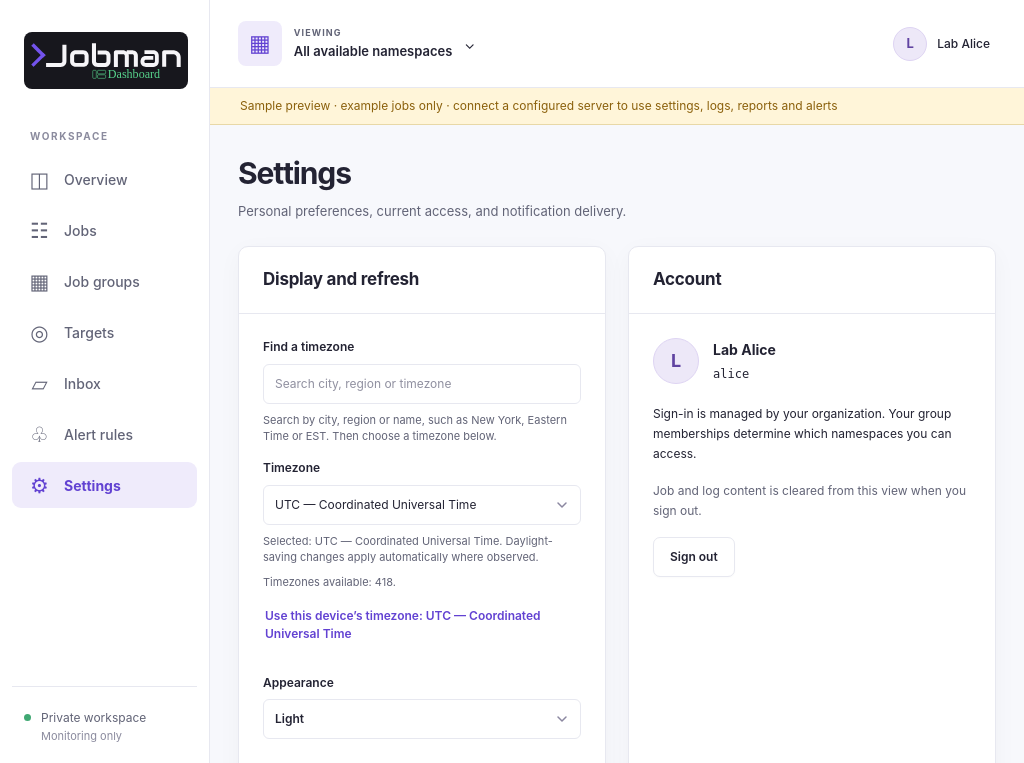
offline sign-out clears sensitive content and does not silently restore the session
This screenshot has width=1024, height=763.
Click the button "Sign out" at (694, 558), box [653,538,735,578]
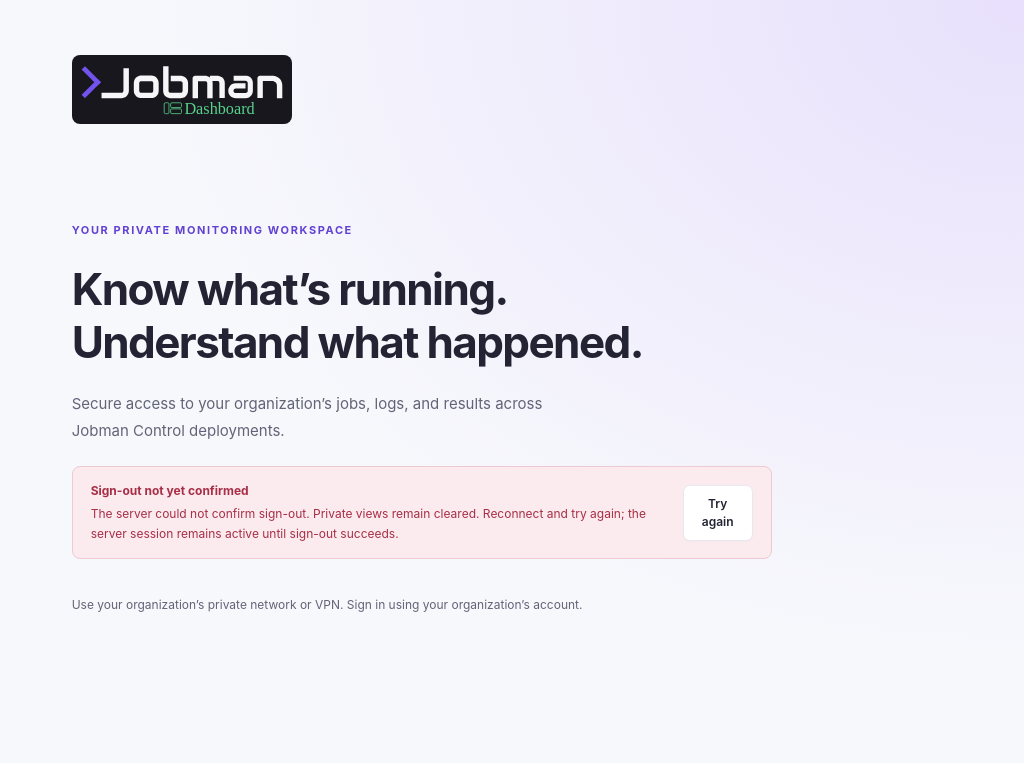
Expected: the text "The server could not confirm sign-out" is shown, [91,506,646,541]
Expected: the button "Lab Alice" is gone
